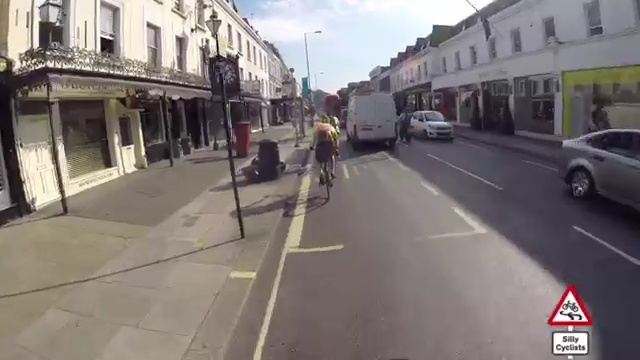cyclist_back: (312, 113, 340, 204)
